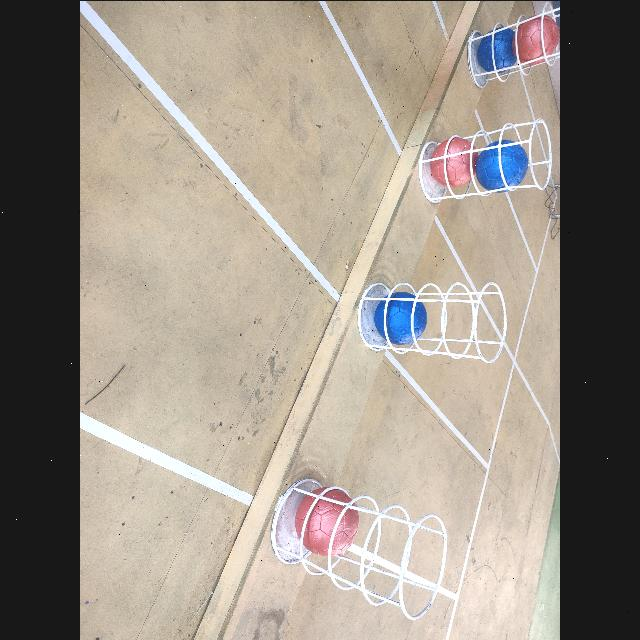B: (377, 288, 428, 344), (476, 140, 528, 192), (476, 27, 520, 72)
R: (296, 484, 360, 556), (429, 135, 478, 185), (512, 13, 560, 62)
